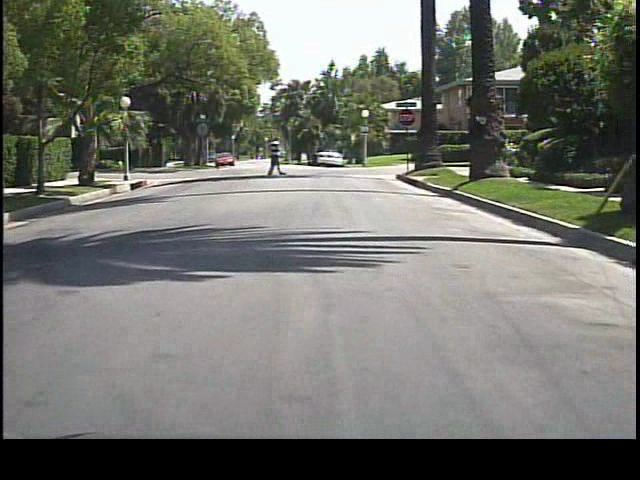person: (267, 136, 285, 176)
